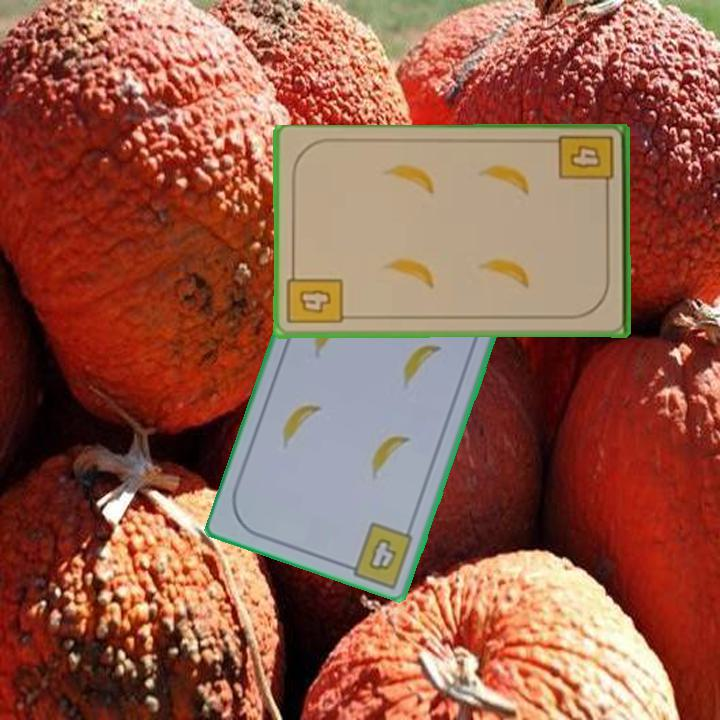4b: (556, 133, 617, 198), (284, 265, 345, 327), (365, 534, 400, 574)
